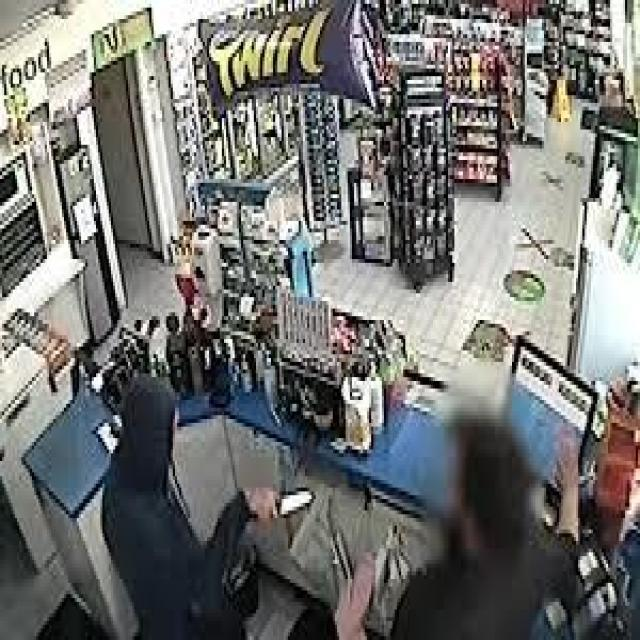weapon: (260, 480, 318, 526)
